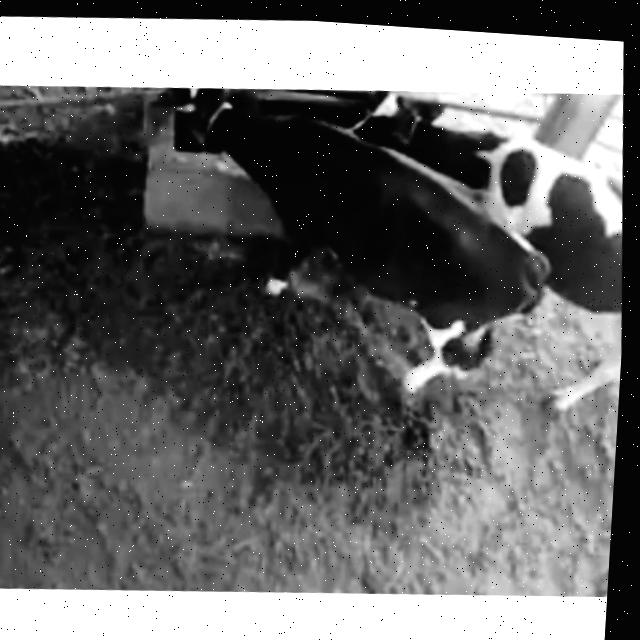drink: (156, 80, 324, 224), (333, 81, 513, 204)
